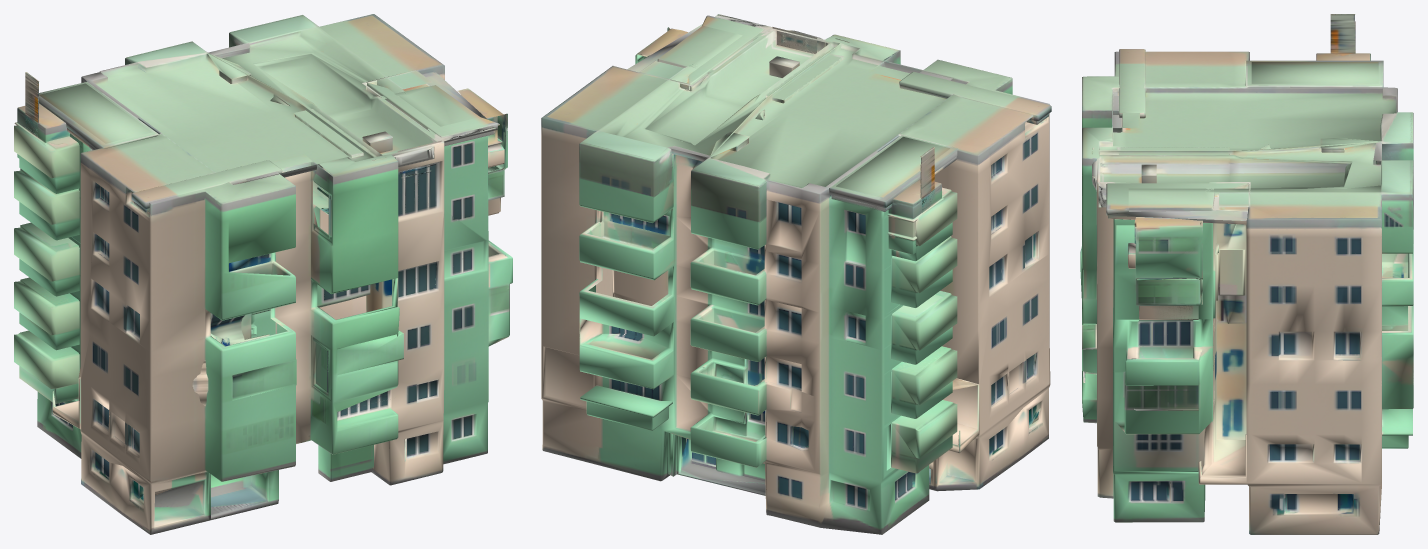
Rendered from bld_383410002.glb.
The picture shows the model from 3 angles, left to right: view 1: azimuth 30°, elevation 25°; view 2: azimuth 150°, elevation 25°; view 3: azimuth 270°, elevation 25°; orthographic projection. The views are drawn at different scales.
Bounding box in the file's own units: 1.91 × 1.81 × 1.55.
1 material, 1 textured.
